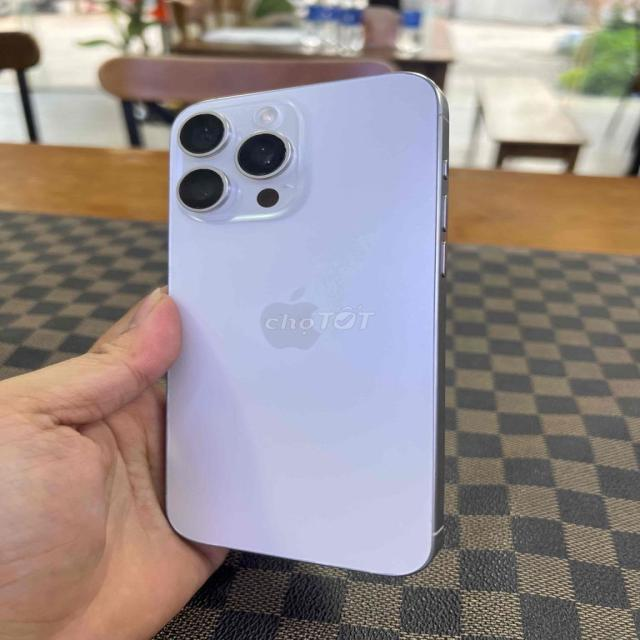gen_15: (147, 73, 457, 588)
